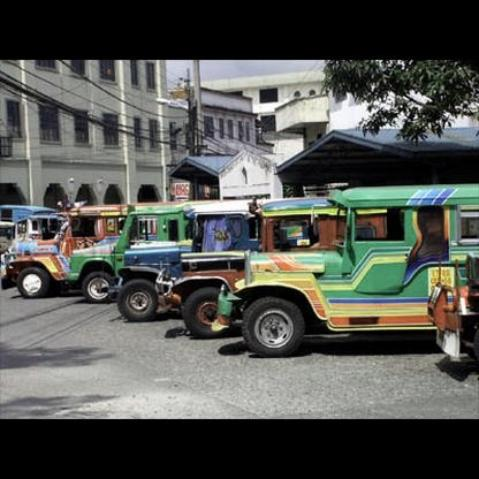jeepney: (229, 183, 479, 361), (159, 192, 336, 334), (113, 202, 245, 323), (75, 204, 192, 301), (0, 199, 100, 295)
